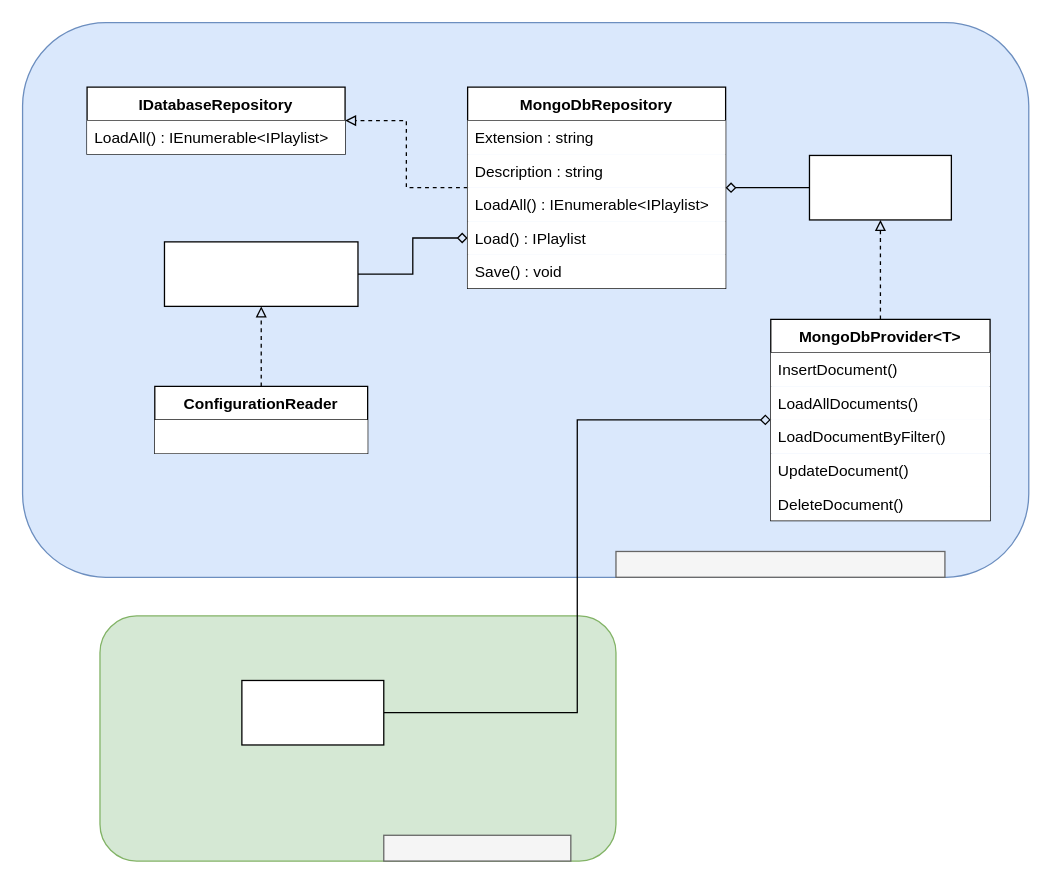
Image size: 1051x884. Some labels were removed from this diagram. Here are the shapes that lost their labels. From the top down, the centre of each, then its label:
At (879,187): "«interface» IDataProvider<T>".
At (260,273): "«interface» IConfigurationReader".
At (260,436): "GetConfig() : string".
At (780,563): "Wifi.PlaylistEditor.Repositories.MongoDb.dll".
At (312,712): "«interface» IMongoDatabase".
At (476,847): "Nuget: MongoDB.Driver".
